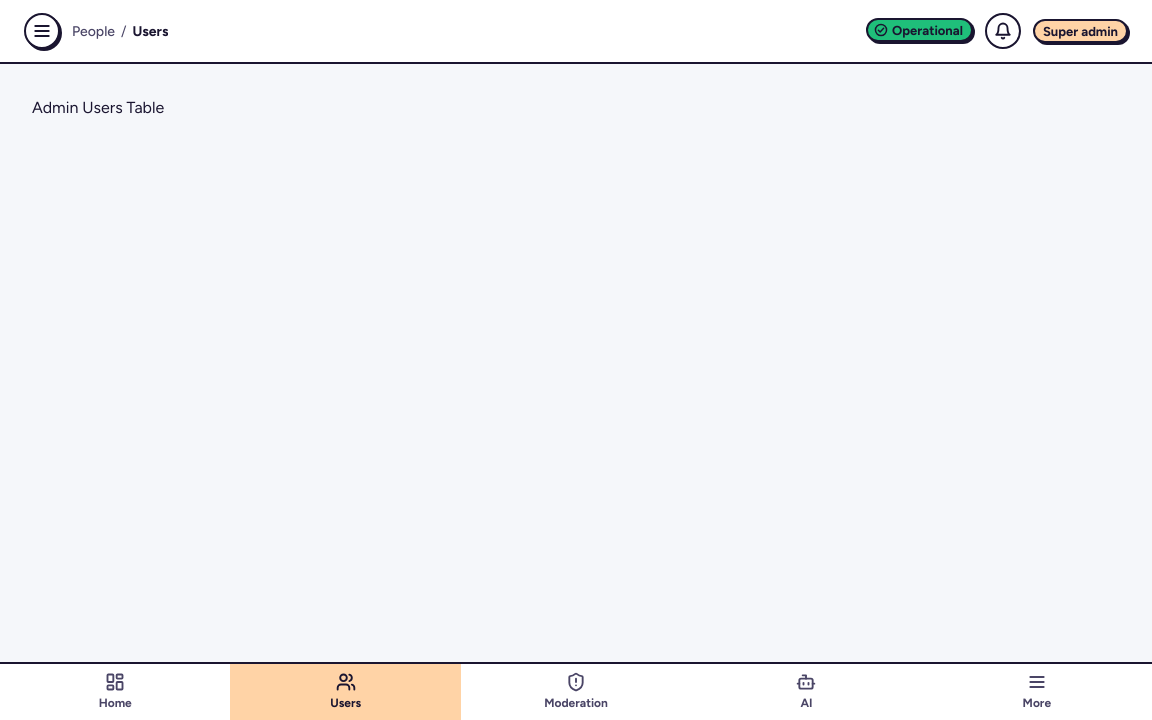
Test: UIK-25: Admin App Shell & View-As Simulation › AdminAppShell renders with breadcrumbs and opens drawer with user details
expect the text "Admin Users Table" is shown: met, box top-left (32, 98), bottom-right (164, 117)
expect the list item "Users" is shown: met, box top-left (132, 20), bottom-right (168, 42)
Step 1. Click the button named "Open navigation menu" → (42, 31), box top-left (24, 13), bottom-right (60, 49)
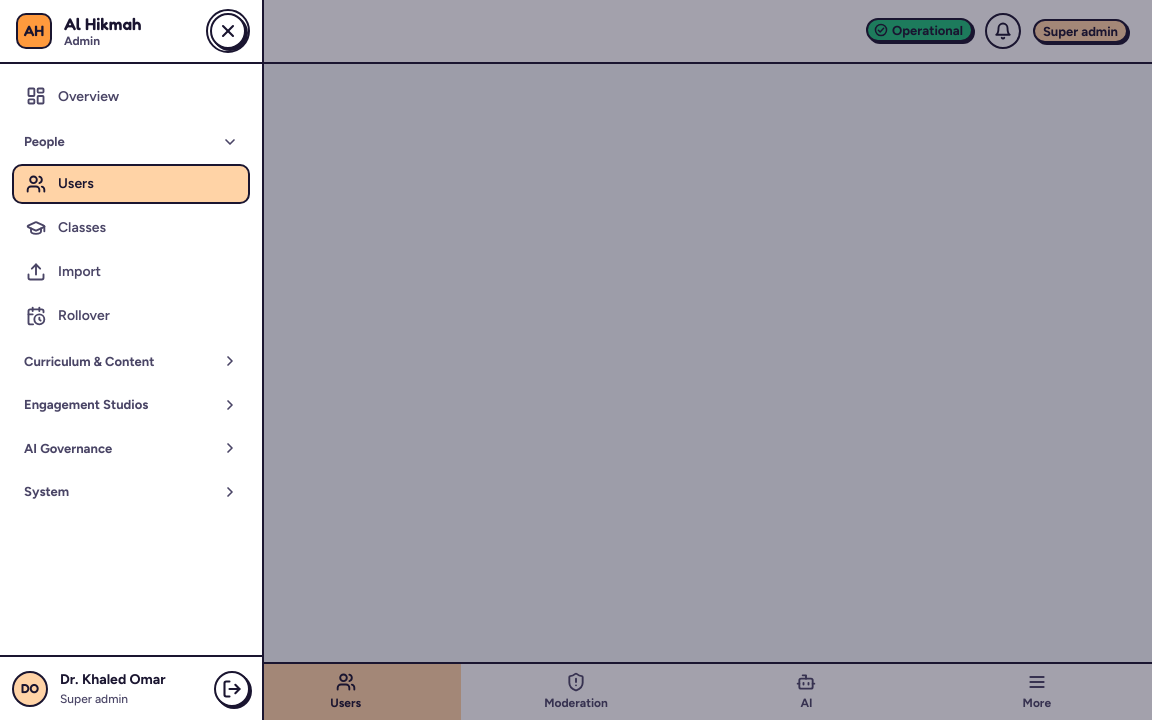
expect the text "Super admin" next to "Operational" is shown: met, box top-left (1043, 24), bottom-right (1118, 38)
expect the text "Dr. Khaled Omar" is shown: met, box top-left (60, 671), bottom-right (166, 688)
